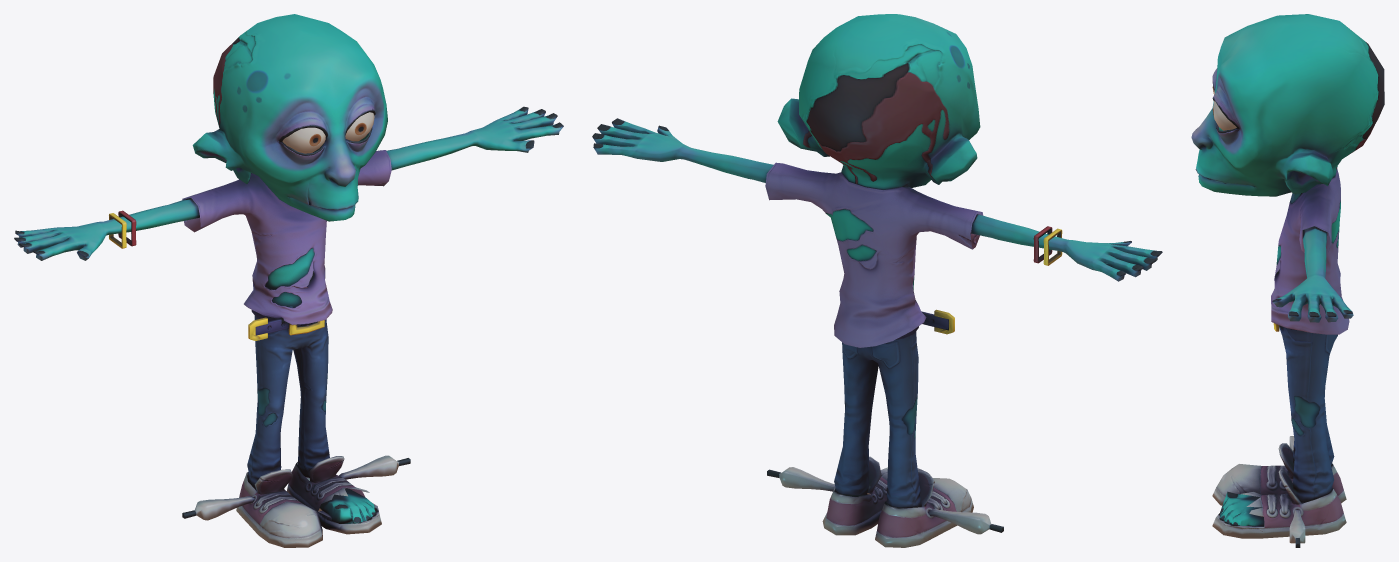
The model's file is zombie_02.glb.
The picture shows the model from 3 angles, left to right: view 1: azimuth 30°, elevation 25°; view 2: azimuth 150°, elevation 25°; view 3: azimuth 270°, elevation 25°; orthographic projection. The views are drawn at different scales.
Parts seen in each view (by area): view 1: Zombie; view 2: Zombie; view 3: Zombie.
Part boxes in pixels (x1,y1,x2,y2): Zombie: [14, 14, 563, 547]; Zombie: [592, 14, 1162, 547]; Zombie: [1191, 14, 1384, 547].
Size of the model in its own units: 204 by 175 by 62.97.
Materials: 1 (1 with a texture image).
